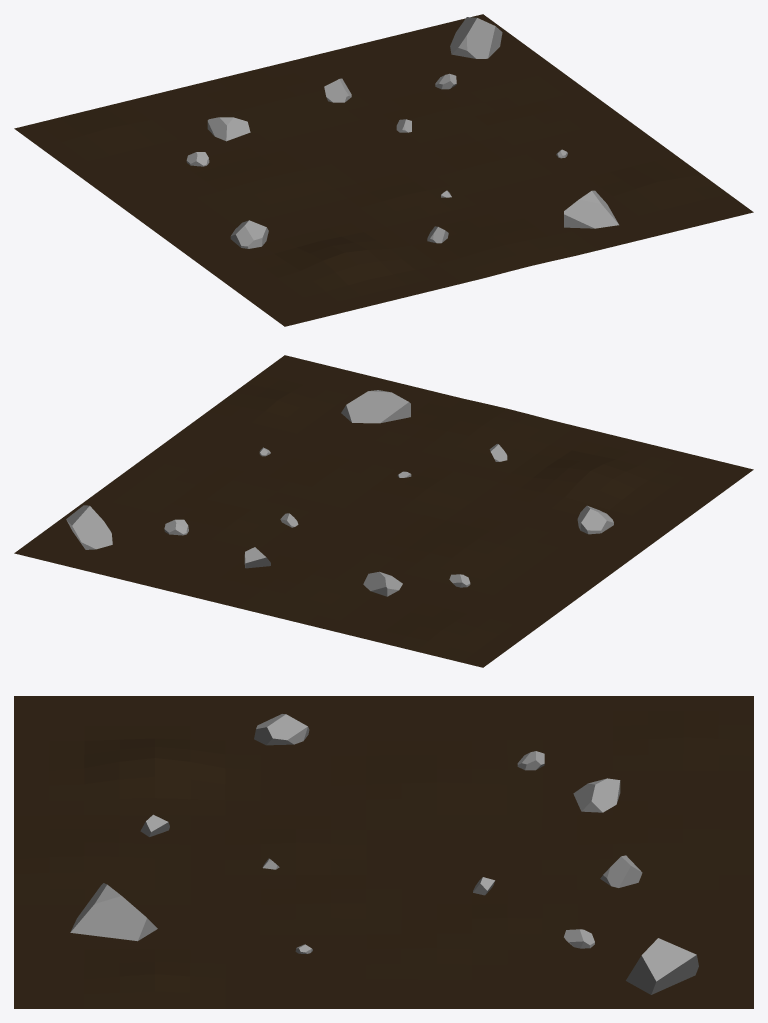
File: ground.glb
3 renders of one model, top to bottom at view 1: azimuth 30°, elevation 25°; view 2: azimuth 150°, elevation 25°; view 3: azimuth 270°, elevation 25°, orthographic. The views are drawn at different scales.
Visible parts, largest first — view 1: ground, rocks; view 2: ground, rocks; view 3: ground, rocks.
Boxes of the visible parts, x1=… form: ground: x1=14, y1=14, x2=753, y2=326; rocks: x1=186, y1=17, x2=618, y2=248; ground: x1=14, y1=355, x2=753, y2=667; rocks: x1=66, y1=390, x2=613, y2=596; ground: x1=14, y1=696, x2=753, y2=1008; rocks: x1=70, y1=714, x2=698, y2=994.
Bounding box in the file's own units: 100 × 6.58 × 100.
